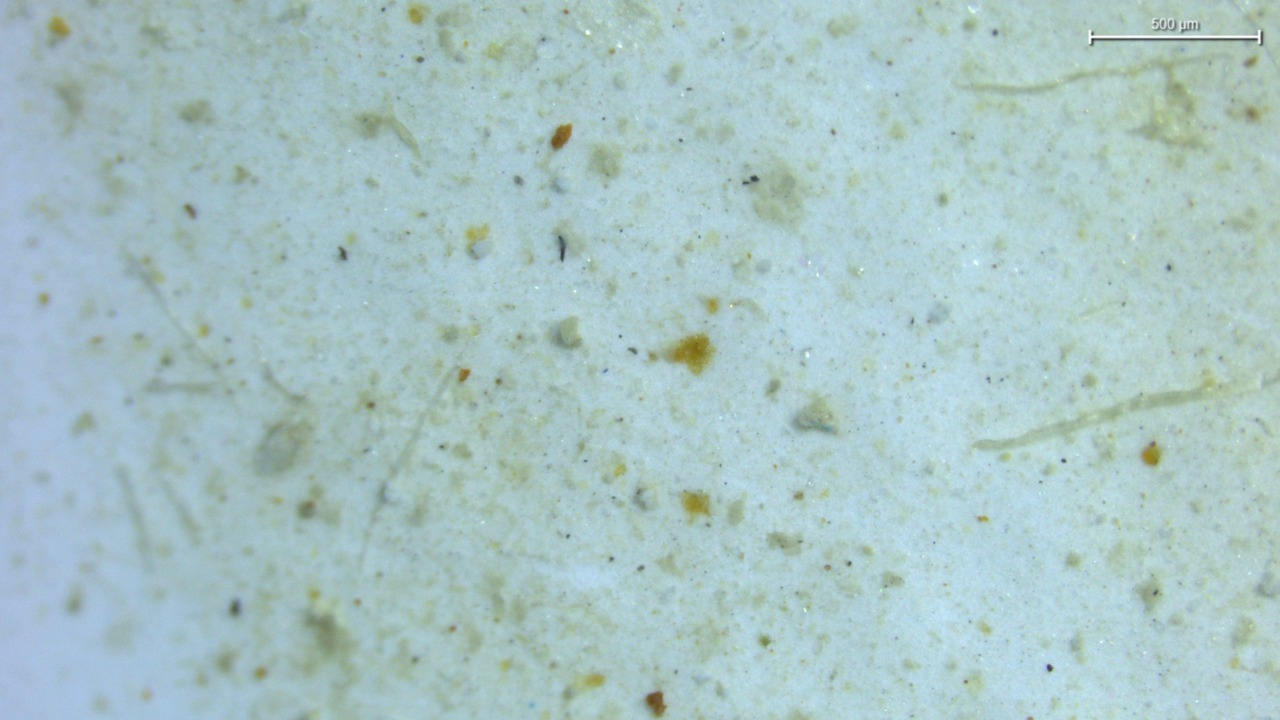microplastic_fragment: (795, 397, 840, 434), (557, 316, 582, 348), (632, 486, 656, 510)
